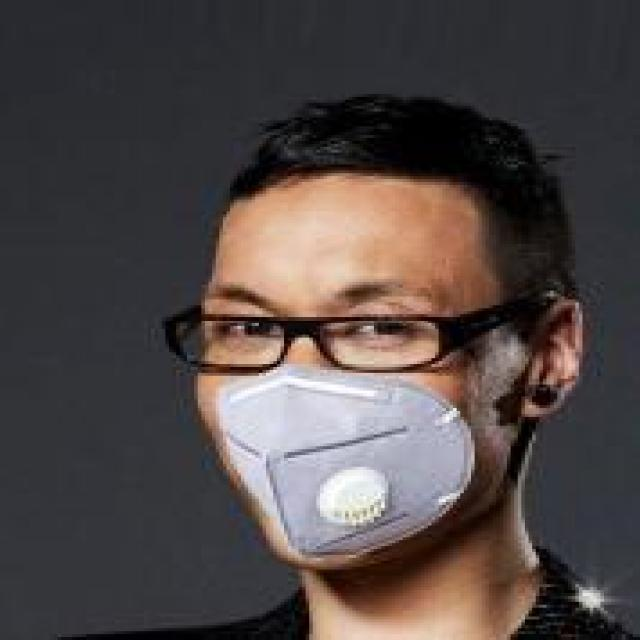mask: (183, 138, 572, 581)
